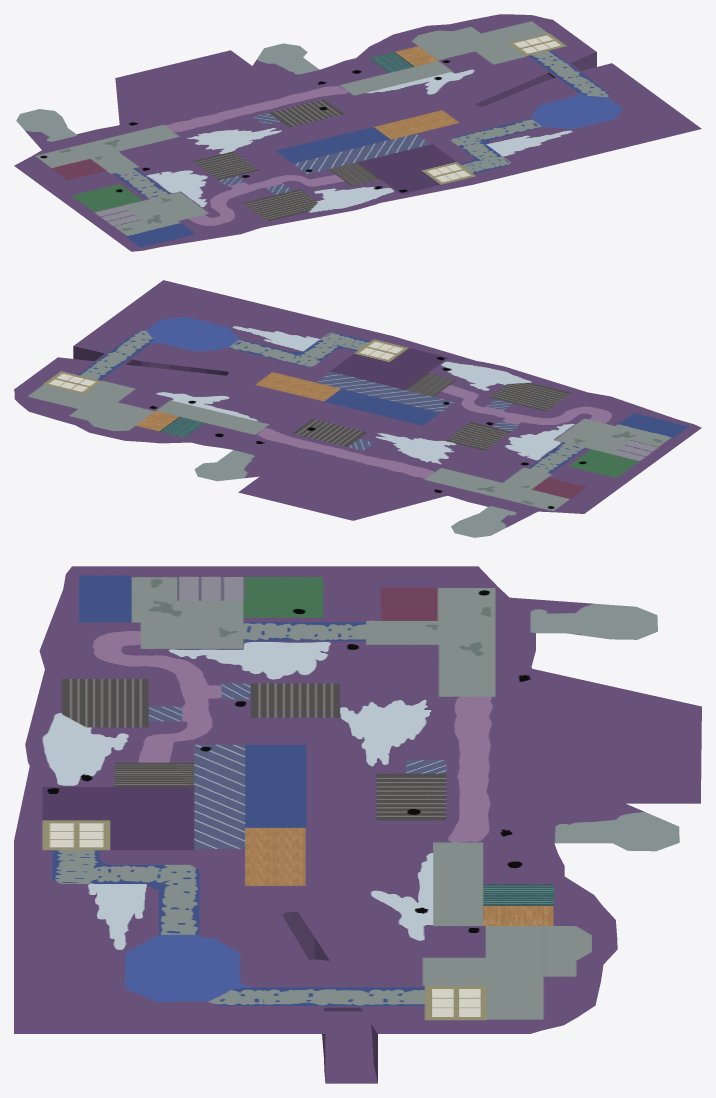
File: Polus Ground.fbx
3 views of the same model, one above another, from view 1: azimuth 30°, elevation 25°; view 2: azimuth 150°, elevation 25°; view 3: azimuth 270°, elevation 25° (orthographic). The views are drawn at different scales.
Visible parts, largest first — view 1: Ground; view 2: Ground; view 3: Ground.
Boxes of the visible parts, left/top/right/bottom form: Ground: left=14, top=14, right=701, bottom=251; Ground: left=14, top=280, right=701, bottom=537; Ground: left=14, top=566, right=701, bottom=1083.
Bounding box in the file's own units: 6000 × 296 × 3730.
